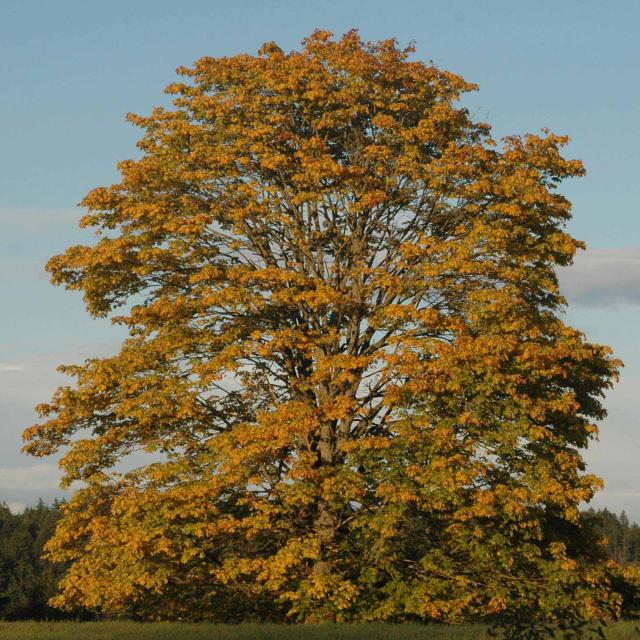Acer macrophyllum: (38, 39, 597, 617)
